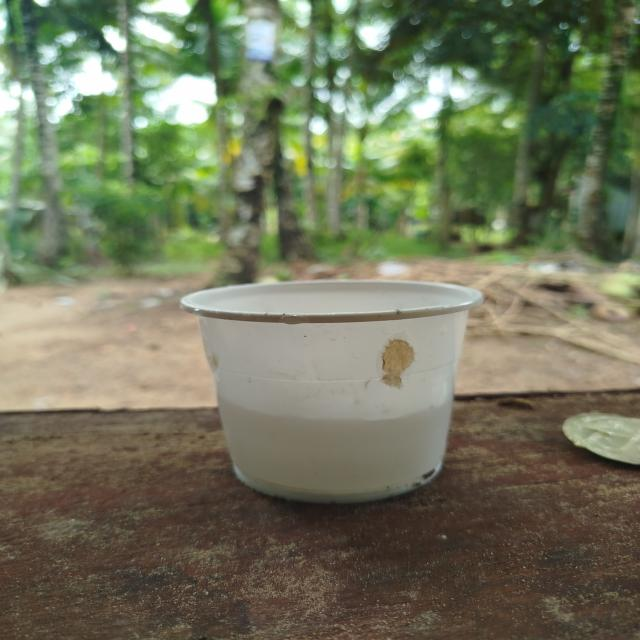plastic: (166, 253, 506, 520)
